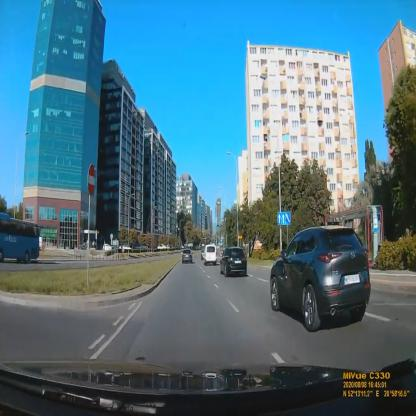cars: (270, 226, 371, 332), (220, 249, 247, 276), (204, 244, 217, 264), (182, 249, 192, 264)
